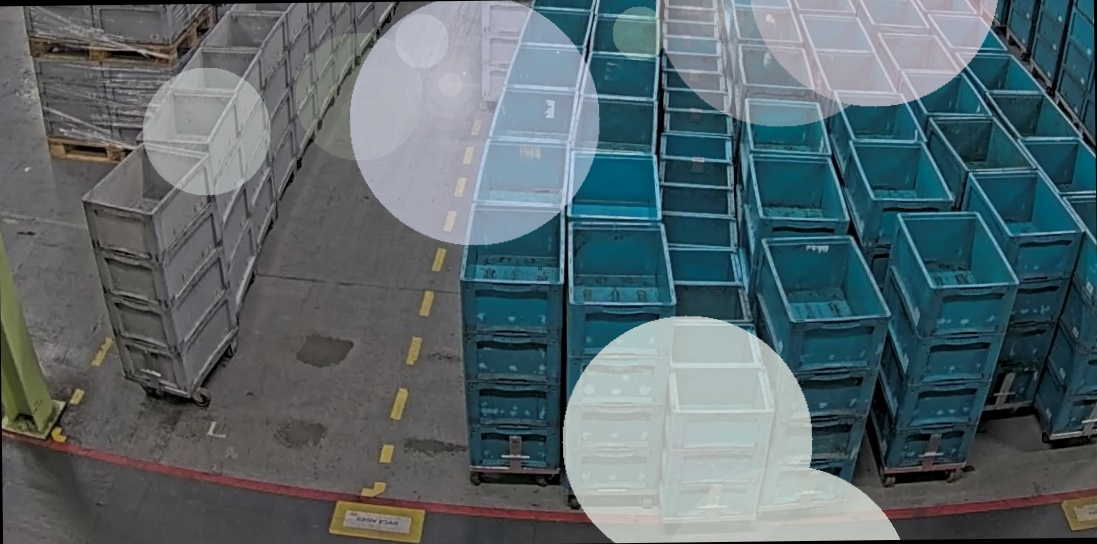4G: (81, 140, 242, 402)
B4: (865, 211, 1023, 474), (750, 234, 897, 512), (558, 221, 678, 495), (959, 168, 1089, 411), (460, 203, 571, 471)
B8: (657, 322, 775, 522)
